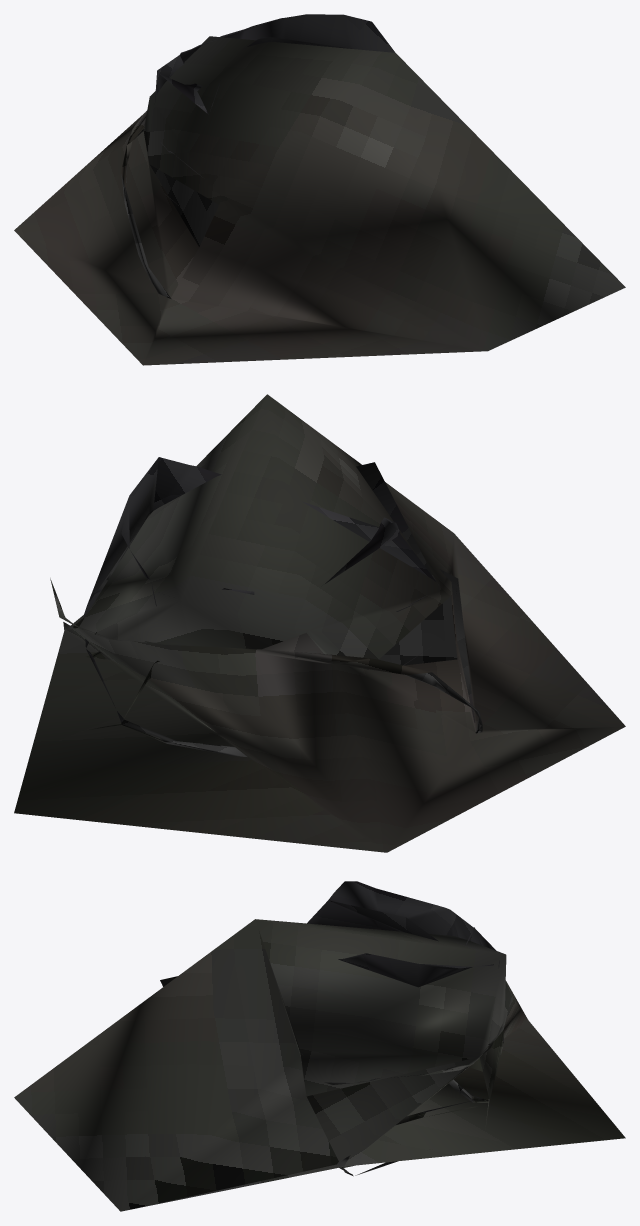
File: DPC_Handmade_Hat_Brown-low.glb
3 views of the same model, one above another, from view 1: azimuth 30°, elevation 25°; view 2: azimuth 150°, elevation 25°; view 3: azimuth 270°, elevation 25° (orthographic). The views are drawn at different scales.
Parts seen in each view (by area): view 1: DPC_Handmade_Hat_Brown; view 2: DPC_Handmade_Hat_Brown; view 3: DPC_Handmade_Hat_Brown.
Part boxes in pixels (x1,y1,x2,y2): DPC_Handmade_Hat_Brown: (14, 14, 625, 365); DPC_Handmade_Hat_Brown: (14, 394, 625, 852); DPC_Handmade_Hat_Brown: (14, 881, 625, 1211).
Size of the model in its own units: 0.279 by 0.1409 by 0.3485.
Materials: 1 (1 with a texture image).
